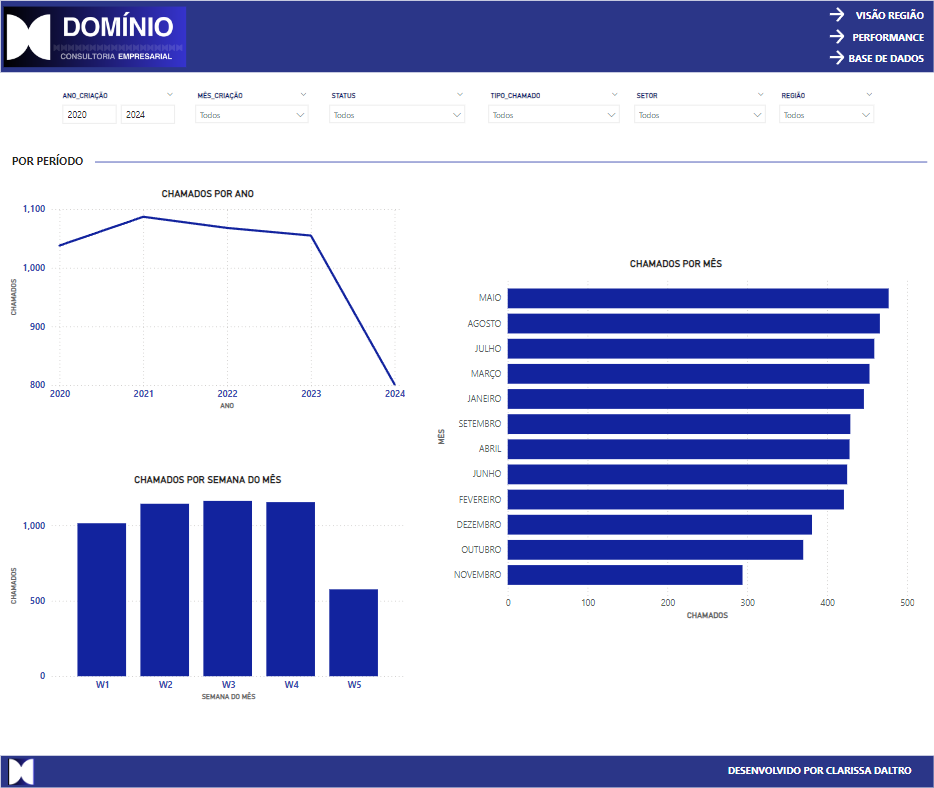

The dashboard page shown, as its layout file describes it:
{"tool":"powerbi","page":{"name":"VISÃO_PERÍODO","canvas":[1280,1080],"ordinal":0},"visuals":[{"type":"slicer","fields":{"Values":["BASE_CHAMADOS.ANO_CRIAÇÃO"]},"box":[72,120,177,70],"z":0,"group":"g1"},{"type":"shape","box":[0,1034.4,1280,45.6],"z":0},{"type":"shape","box":[0,0,1280,100],"z":1000},{"type":"slicer","fields":{"Values":["BASE_CHAMADOS.SETOR"]},"box":[858,120,200,70],"z":1000,"group":"g1"},{"type":"slicer","fields":{"Values":["BASE_CHAMADOS.STATUS"]},"box":[441,120,206,70],"z":2000,"group":"g1"},{"type":"lineChart","title":"CHAMADOS POR ANO","fields":{"Y":["CountNonNull(BASE_CHAMADOS.ID)"],"Category":["BASE_CHAMADOS.ANO_CRIAÇÃO"]},"box":[10,257,550,308],"z":2000},{"type":"slicer","fields":{"Values":["BASE_CHAMADOS.TIPO_CHAMADO"]},"box":[658,120,200,70],"z":3000,"group":"g1"},{"type":"columnChart","title":"CHAMADOS POR SEMANA DO MÊS","fields":{"Y":["CountNonNull(BASE_CHAMADOS.ID)"],"Category":["BASE_CHAMADOS.Semana do mês"]},"box":[10,649,550,315],"z":3000},{"type":"slicer","fields":{"Values":["BASE_CHAMADOS.REGIÃO"]},"box":[1057,120,150,70],"z":4000,"group":"g1"},{"type":"textbox","box":[0,206,130,31],"z":4000},{"type":"slicer","fields":{"Values":["BASE_CHAMADOS.MÊS_CRIAÇÃO_ATUALIZADO"]},"box":[257,120,175,70],"z":5000,"group":"g1"},{"type":"shape","box":[130,211,1140,22],"z":5000},{"type":"textbox","title":"ARA","box":[992.2,1041.1,277.8,30],"z":6000},{"type":"image","box":[0,0,260,100],"z":7000},{"type":"group","id":"g1","title":"Grupo 1","box":[72,120,1135,70],"z":8000},{"type":"clusteredBarChart","title":"CHAMADOS POR MÊS","fields":{"Y":["CountNonNull(BASE_CHAMADOS.ID)"],"Category":["BASE_CHAMADOS.MÊS_CRIAÇÃO_ATUALIZADO"]},"box":[595,354,663,500],"z":9000},{"type":"actionButton","box":[1132,6,138,29],"z":10000},{"type":"actionButton","box":[1132,35,138,29],"z":11000},{"type":"actionButton","box":[1132,64,138,29],"z":12000},{"type":"image","box":[0,1034.4,58.9,45.6],"z":13000}]}

Visuals, with their boxes in screenshot pixels (x1, y1, x2, y2), scaled from the page's 1280x1080 canvas onto the 934x788 screenshot:
slicer - BASE_CHAMADOS.ANO_CRIAÇÃO: locate(53, 88, 182, 139)
shape: locate(0, 755, 933, 787)
shape: locate(0, 0, 933, 73)
slicer - BASE_CHAMADOS.SETOR: locate(626, 88, 772, 139)
slicer - BASE_CHAMADOS.STATUS: locate(322, 88, 472, 139)
"CHAMADOS POR ANO" lineChart: locate(7, 188, 409, 412)
slicer - BASE_CHAMADOS.TIPO_CHAMADO: locate(480, 88, 626, 139)
"CHAMADOS POR SEMANA DO MÊS" columnChart: locate(7, 474, 409, 703)
slicer - BASE_CHAMADOS.REGIÃO: locate(771, 88, 881, 139)
textbox: locate(0, 150, 95, 173)
slicer - BASE_CHAMADOS.MÊS_CRIAÇÃO_ATUALIZADO: locate(188, 88, 315, 139)
shape: locate(95, 154, 927, 170)
"ARA" textbox: locate(724, 760, 927, 782)
image: locate(0, 0, 190, 73)
"Grupo 1" group: locate(53, 88, 881, 139)
"CHAMADOS POR MÊS" clusteredBarChart: locate(434, 258, 918, 623)
actionButton: locate(826, 4, 927, 26)
actionButton: locate(826, 26, 927, 47)
actionButton: locate(826, 47, 927, 68)
image: locate(0, 755, 43, 787)
